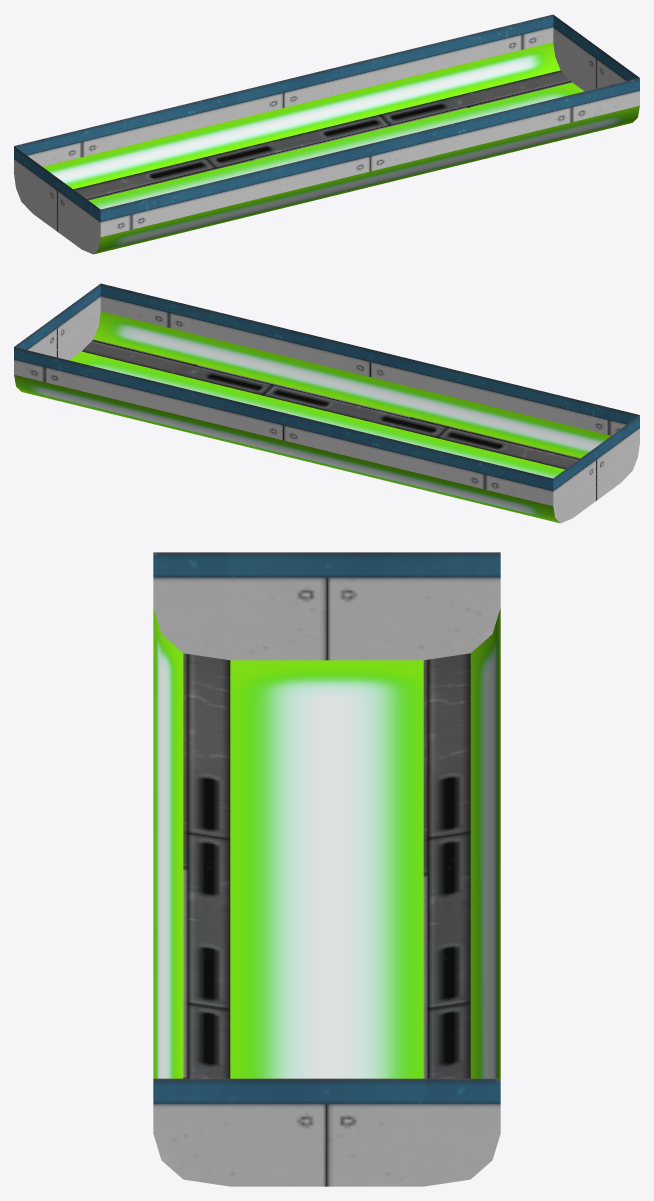
Rendered from Neon_Up_05.FBX.
The picture shows the model from 3 angles, top to bottom: view 1: azimuth 30°, elevation 25°; view 2: azimuth 150°, elevation 25°; view 3: azimuth 270°, elevation 25°; orthographic projection. The views are drawn at different scales.
Visible parts, largest first — view 1: Neon_Up_05, Neons; view 2: Neon_Up_05, Neons; view 3: Neon_Up_05, Neons.
Boxes of the visible parts, box(x1,y1,x2,y2) form: Neon_Up_05: box(14, 14, 639, 254); Neons: box(43, 42, 639, 254); Neon_Up_05: box(14, 283, 639, 523); Neons: box(14, 311, 610, 523); Neon_Up_05: box(153, 552, 500, 1186); Neons: box(153, 608, 500, 1078).
Size of the model in its own units: 99.98 by 9.56 by 27.86.
